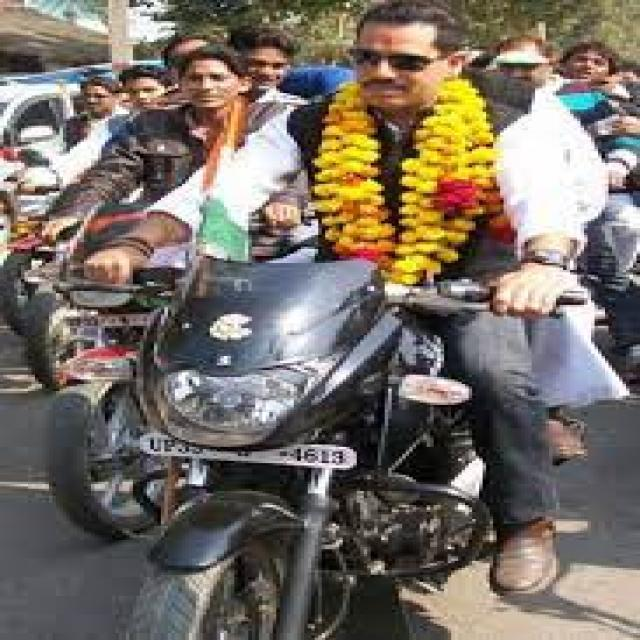No helmet: (336, 6, 464, 116), (175, 44, 255, 118)
